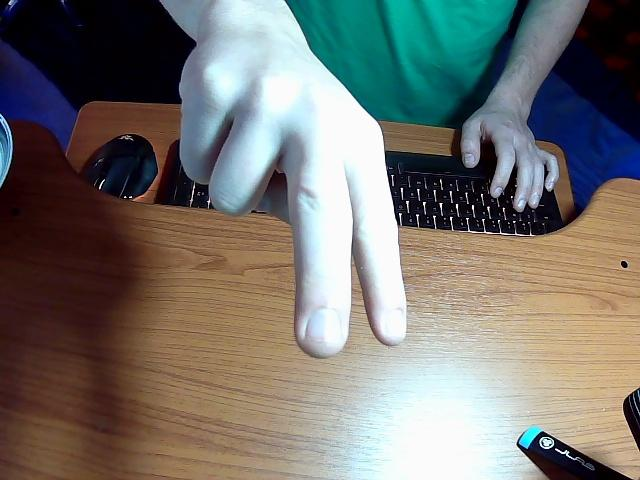scissors: (164, 0, 585, 357)
